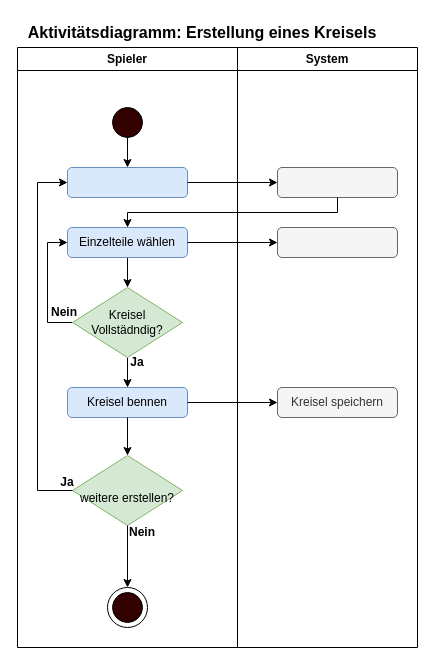
This 435x665 diagram has some shape labels left out. Each missing label, with the centre of its shape:
Baukasten öffnen: pixel 127 182
Kreiselwerte anzeigen: pixel 337 242
Teile Anzeigen: pixel 337 182
